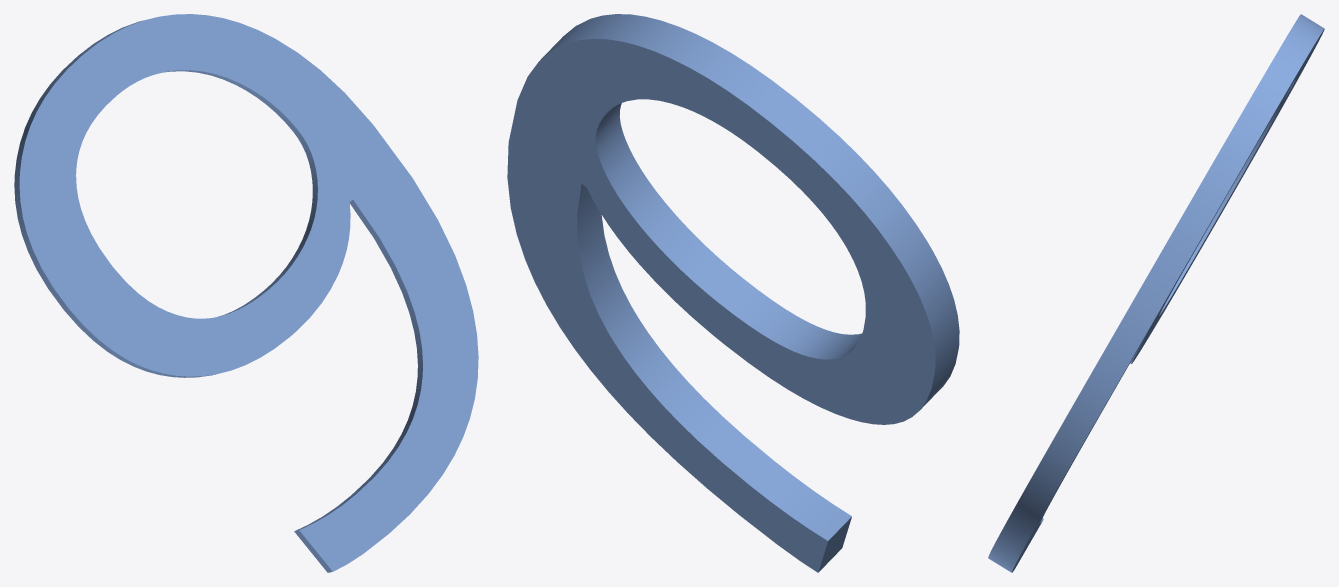
Rendered from New_Number_9.gltf.
3 renders of one model, left to right at view 1: azimuth 30°, elevation 25°; view 2: azimuth 150°, elevation 25°; view 3: azimuth 270°, elevation 25°, orthographic. The views are drawn at different scales.
Visible parts, largest first — view 1: Part 72; view 2: Part 72; view 3: Part 72.
Boxes of the visible parts, x1,y1,x2,y2 form: Part 72: (14, 14, 478, 572); Part 72: (507, 14, 959, 572); Part 72: (988, 14, 1324, 572).
Size of the model in its own units: 0.00424 by 0.00522 by 0.00306.
